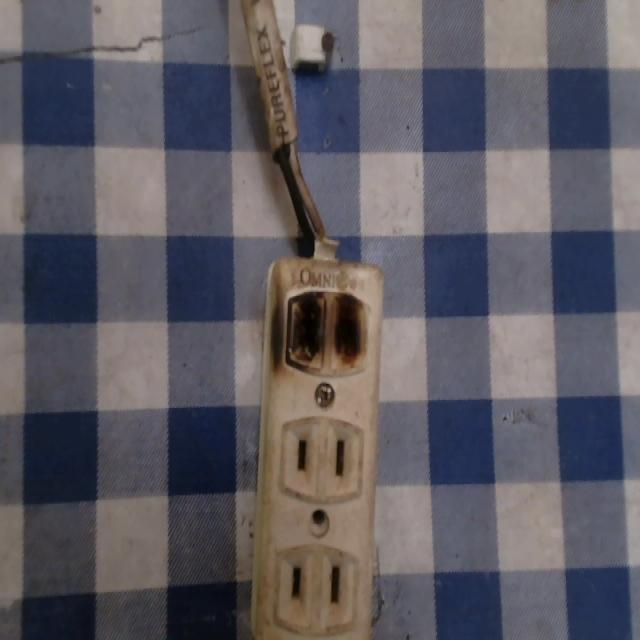-: (273, 276, 366, 373)
